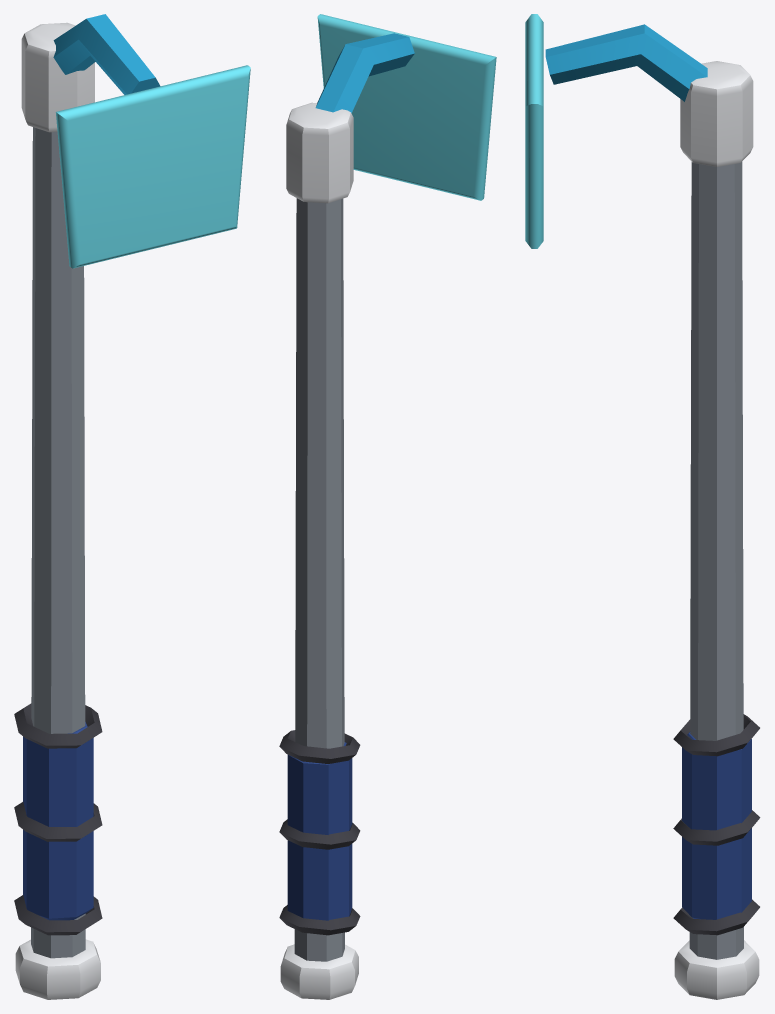
Rendered from DiamondHoe.fbx.
3 renders of one model, left to right at view 1: azimuth 30°, elevation 25°; view 2: azimuth 150°, elevation 25°; view 3: azimuth 270°, elevation 25°, orthographic. The views are drawn at different scales.
Visible parts, largest first — view 1: DiamondHoe; view 2: DiamondHoe; view 3: DiamondHoe.
Boxes of the visible parts, <box> form: DiamondHoe: <box>14,14,250,999</box>; DiamondHoe: <box>279,14,496,999</box>; DiamondHoe: <box>525,14,760,999</box>.
Size of the model in its own units: 0.7 by 3.48 by 0.7736.
1 material, 1 textured.
